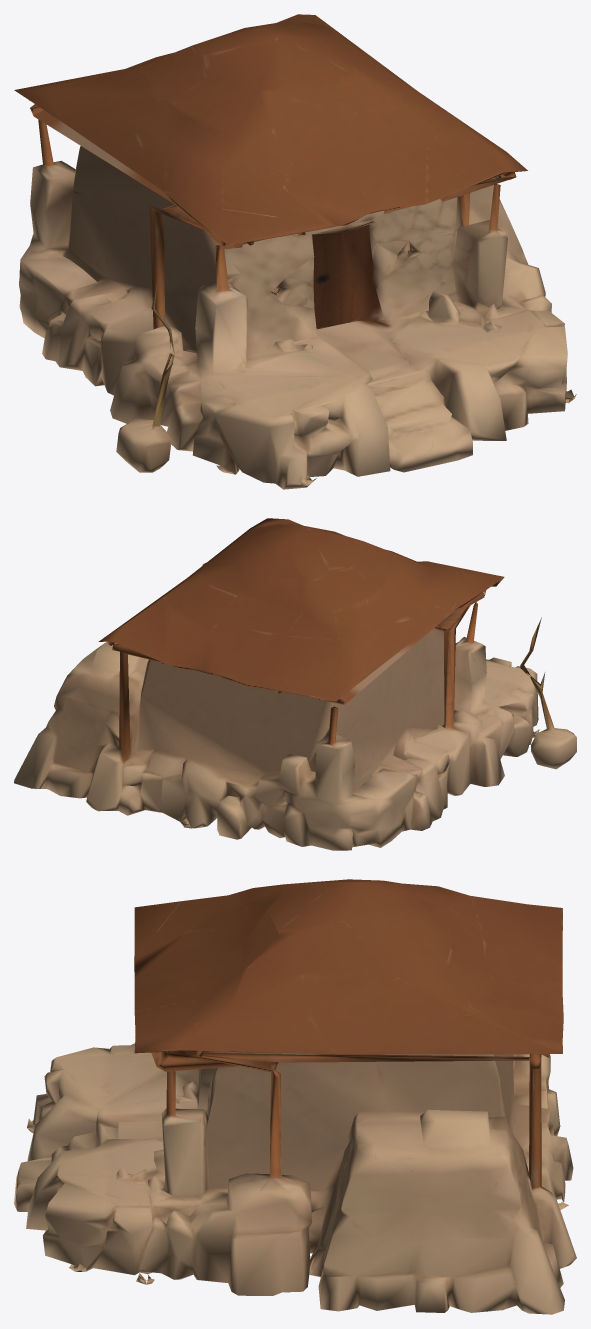
3 renders of one model, top to bottom at view 1: azimuth 30°, elevation 25°; view 2: azimuth 150°, elevation 25°; view 3: azimuth 270°, elevation 25°, orthographic. The views are drawn at different scales.
Bounding box in the file's own units: 1.89 × 1.12 × 1.82.
1 material, 1 textured.
